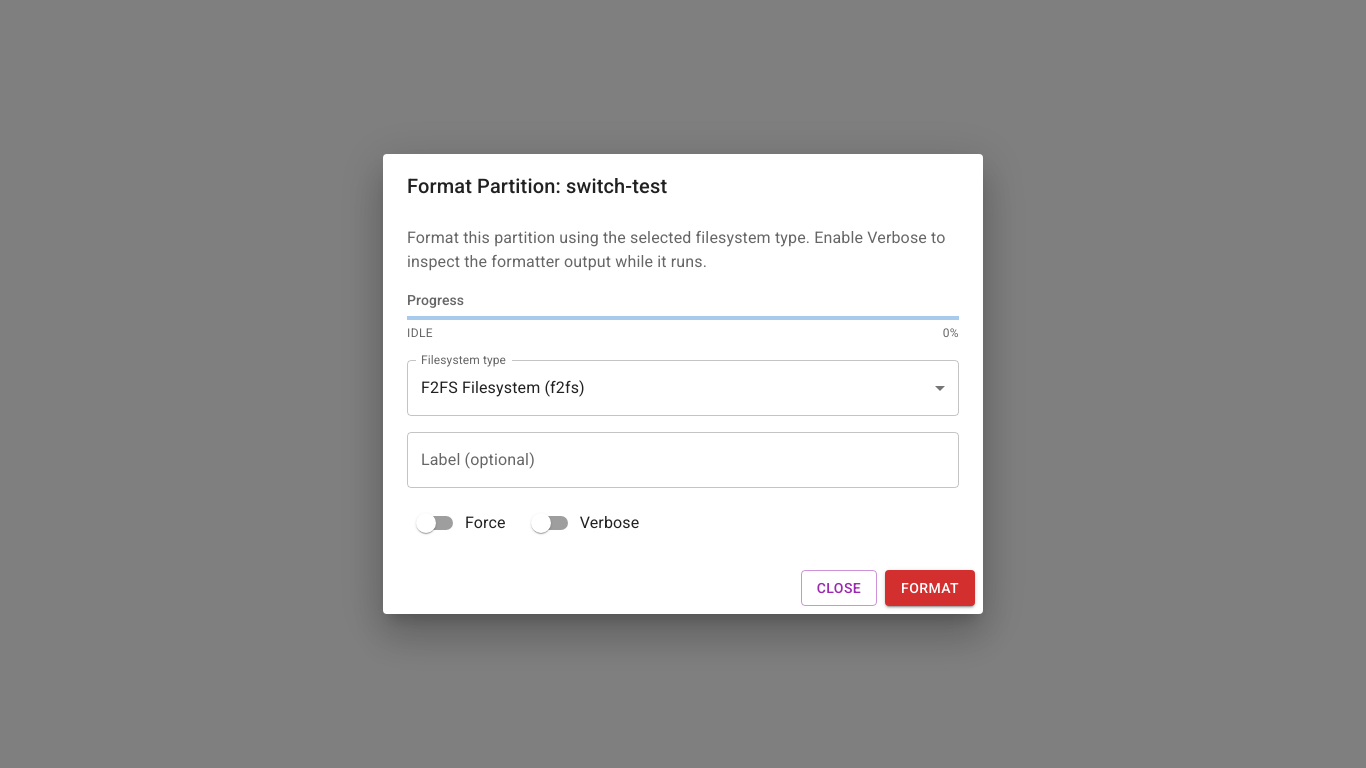
Test case: Filesystem label/format dialogs › shows only format-capable filesystems in format type dropdown
The image size is (1366, 768).
Click the dropdown named "filesystem type" at (503, 388), box left=421, top=378, right=585, bottom=397
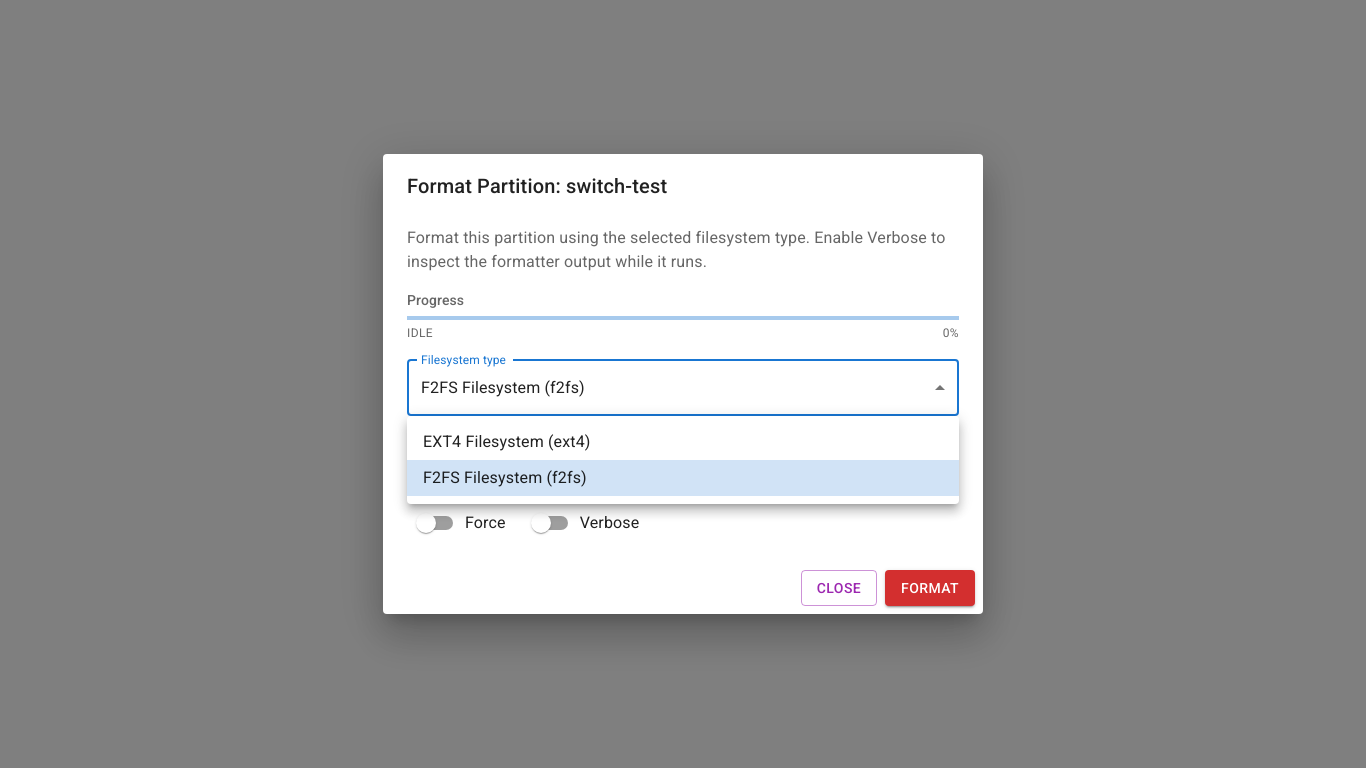
Result: the option "EXT4 Filesystem (ext4)" is shown at left=423, top=432, right=590, bottom=451
Result: the option "F2FS Filesystem (f2fs)" is shown at left=407, top=460, right=959, bottom=496
